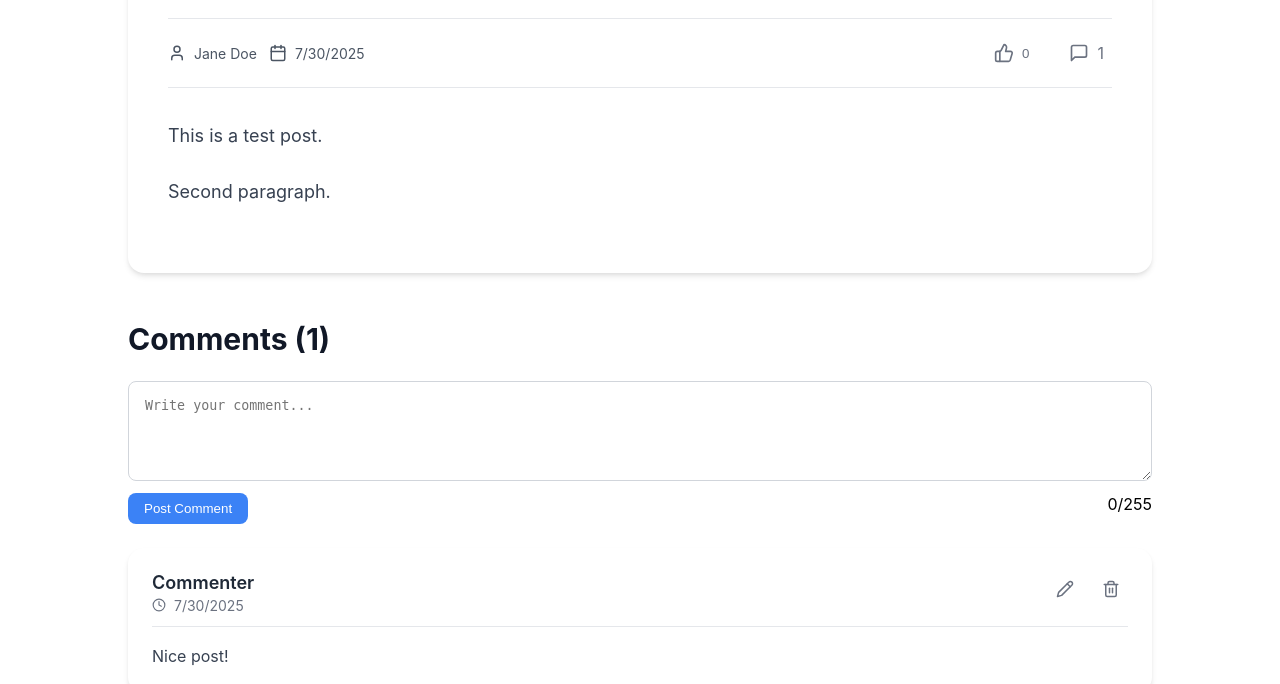
Test: <Post /> › updates comment content when edited
(page scrolled)
Click the button named "Edit".
click(1065, 590)  # box [1048,572,1082,609]
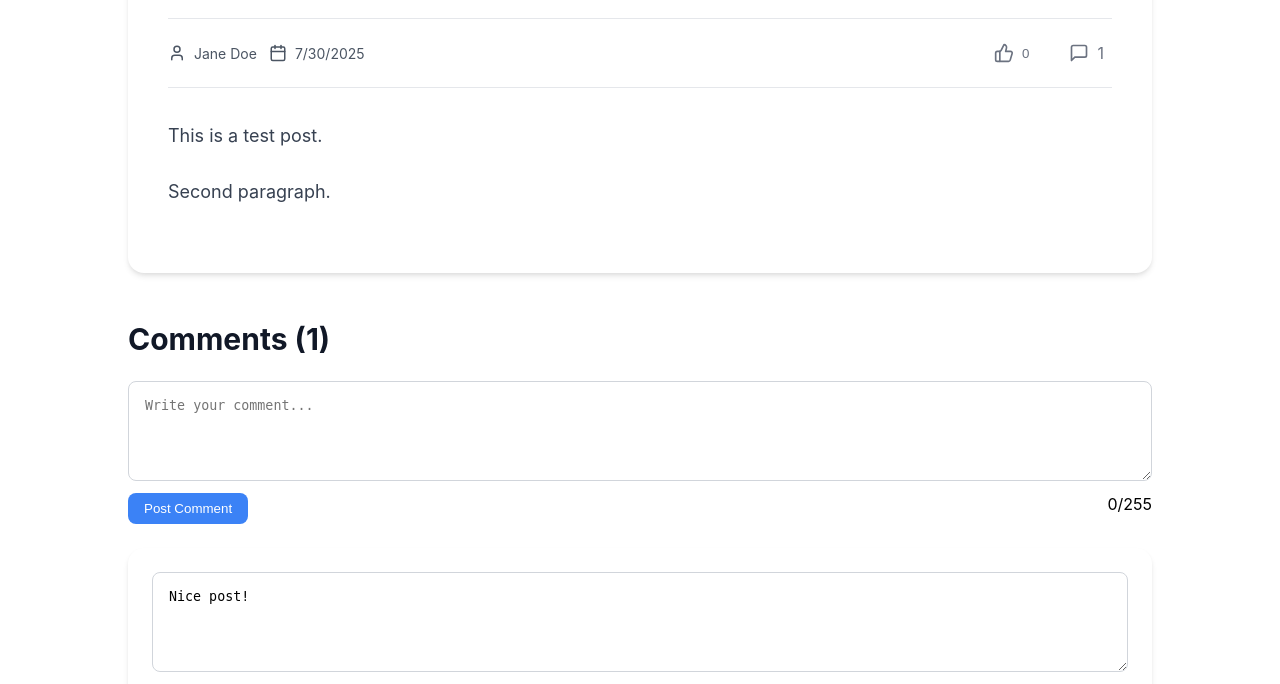
Replace the text in the text box with test id "editInput" with "Update comment" at (640, 622), box [152,572,1128,672]
(page scrolled)
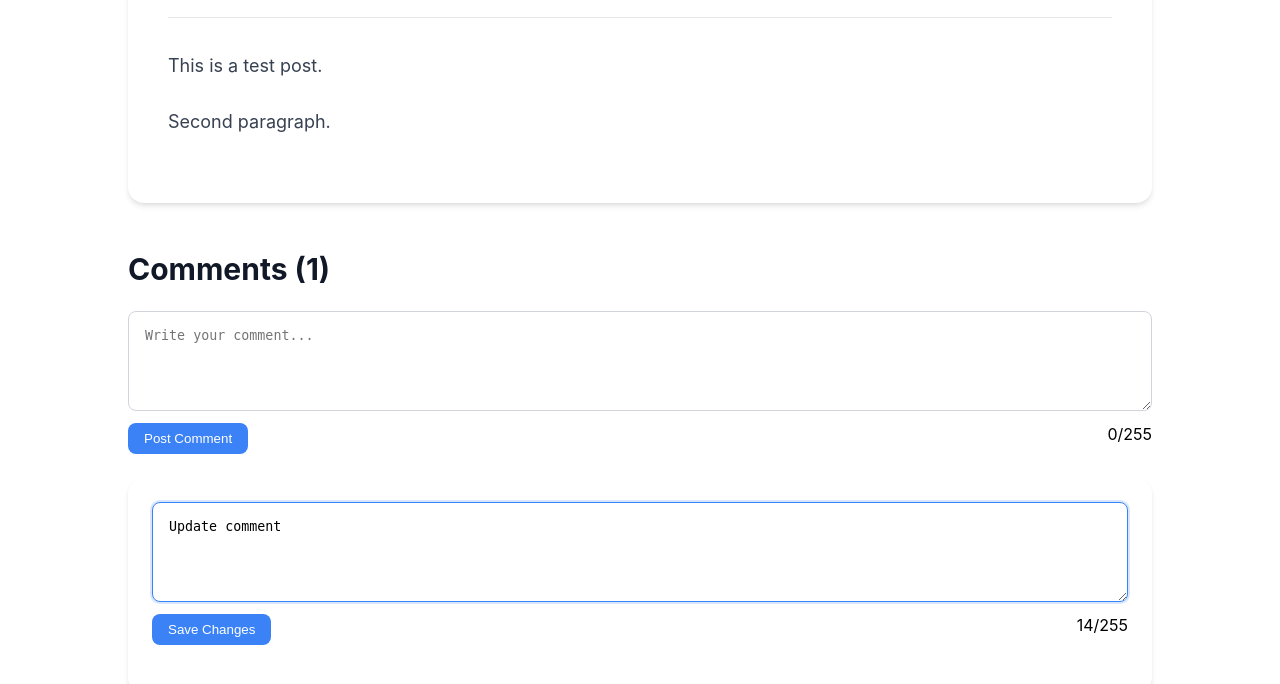
Click the button "Save Changes".
click(212, 629)  # box [152,614,271,645]
(page scrolled)
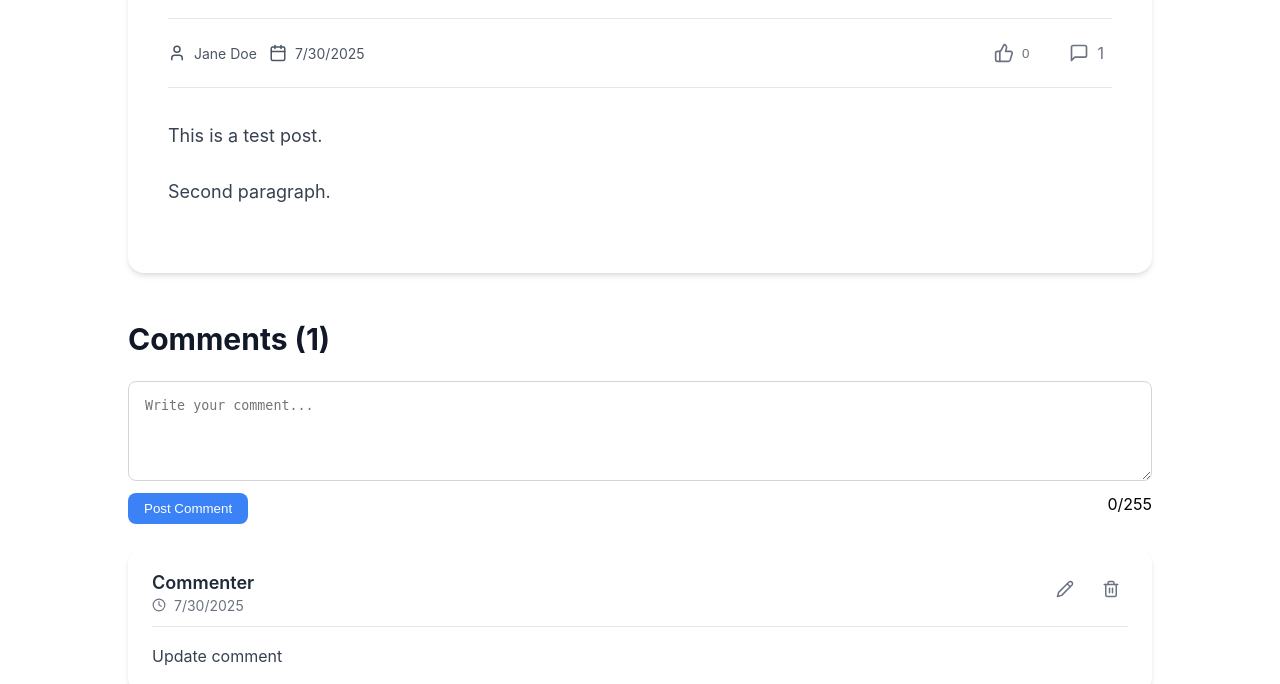
Expected: the heading "Comments (1)" is shown, [128,321,330,357]
Expected: the text "Update comment" is shown, [152,646,282,666]
